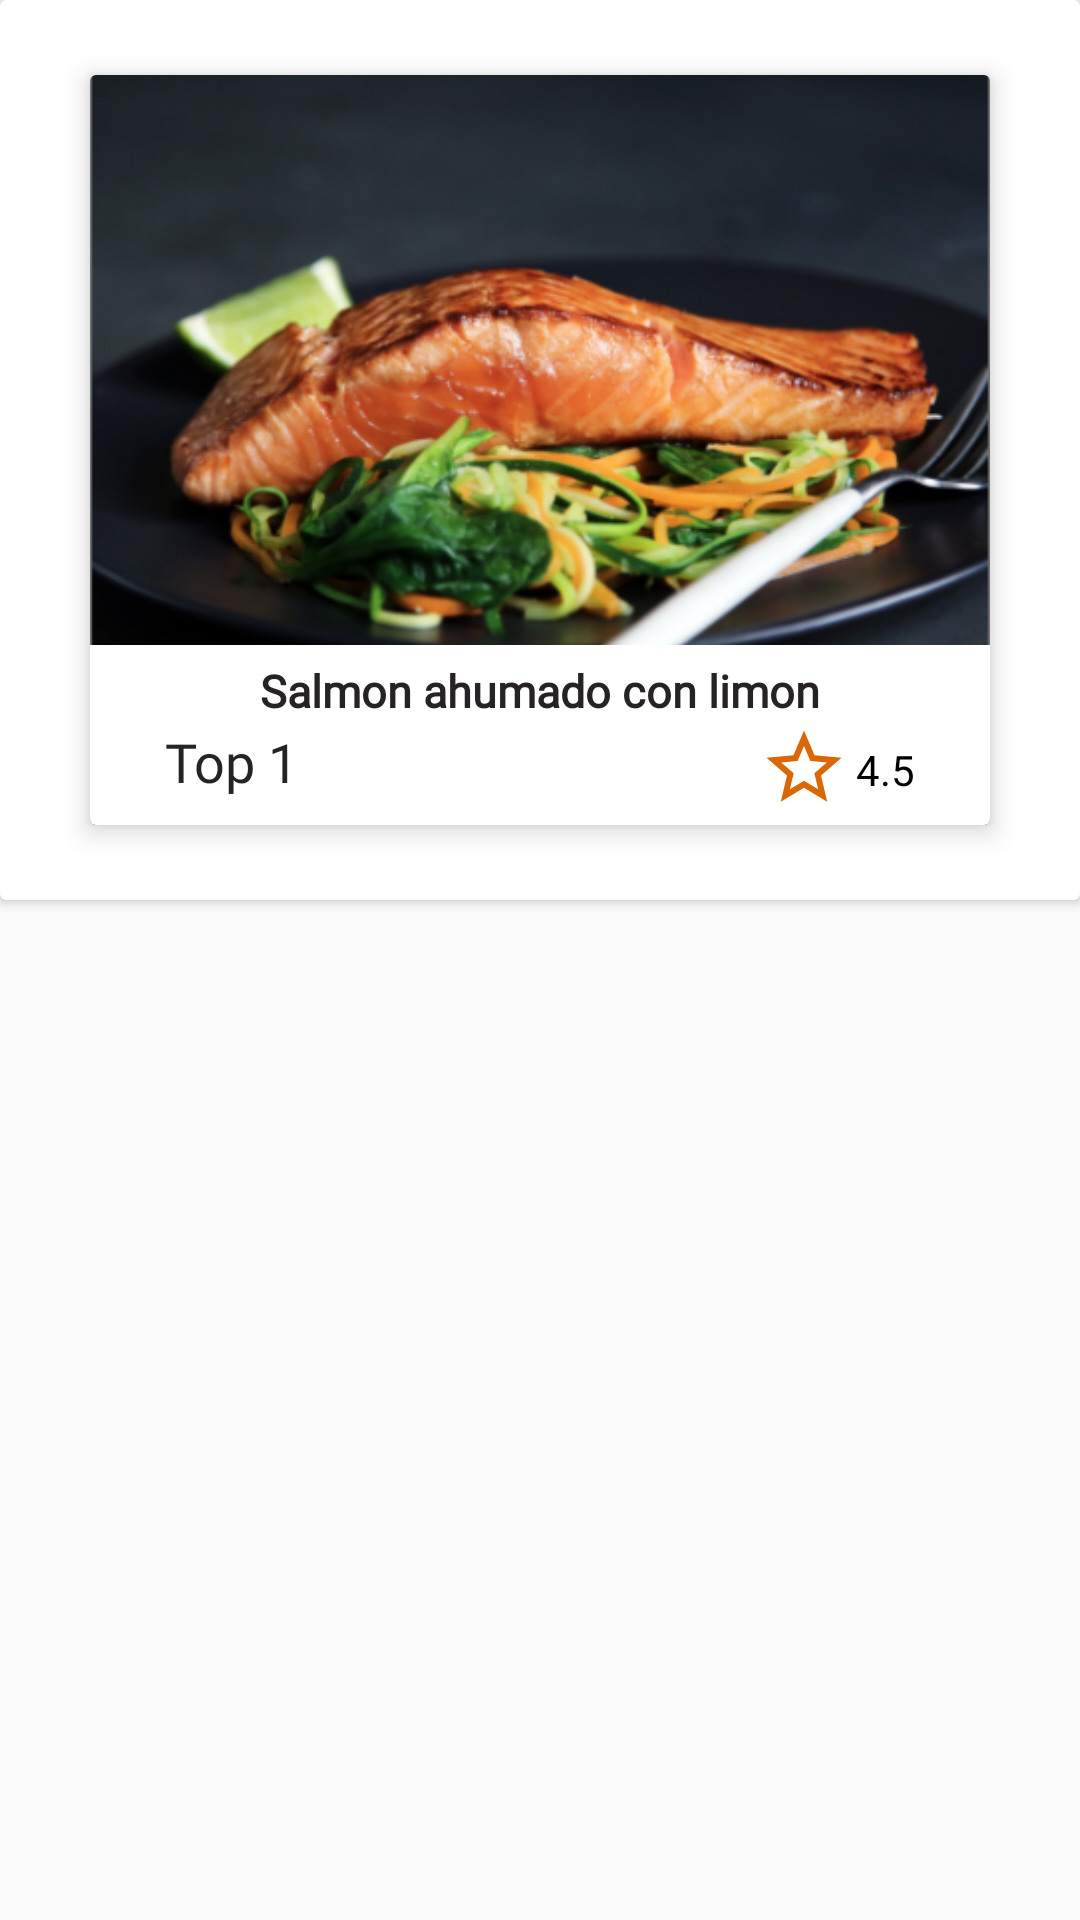

Point at icon controls on the screen. Image size 1080×1920, points as (x=x, y=y).
star border: (x=804, y=766)
